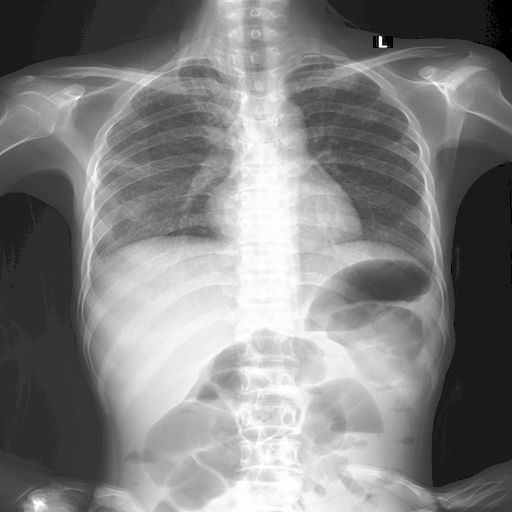Cardiomegaly: (89, 59, 231, 255), (329, 73, 420, 219)
Other lesion: (84, 65, 241, 279), (285, 63, 437, 278)
